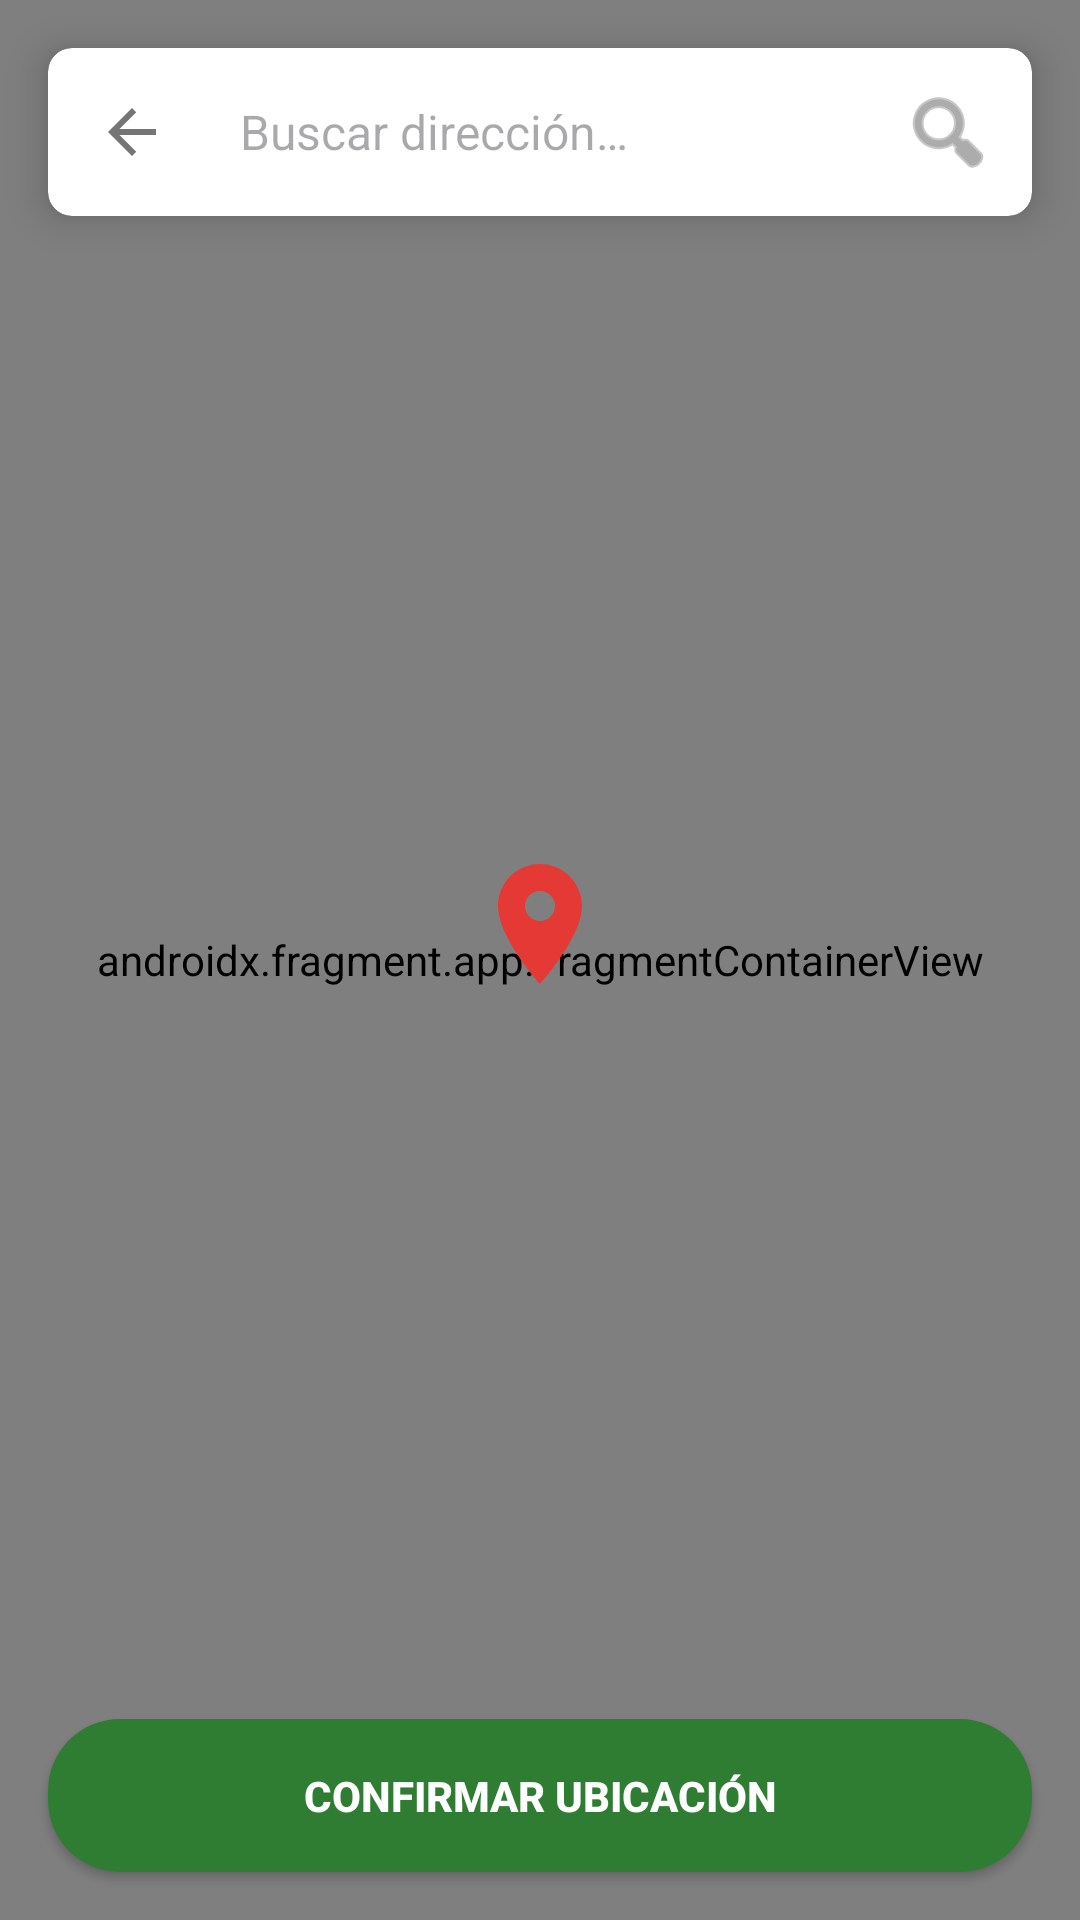

Icon bounding boxes for this 1080x1920 phone screenshot, format (x1, y1, x2, y2):
arrow back: (108, 108, 156, 156)
search: (913, 97, 983, 168)
